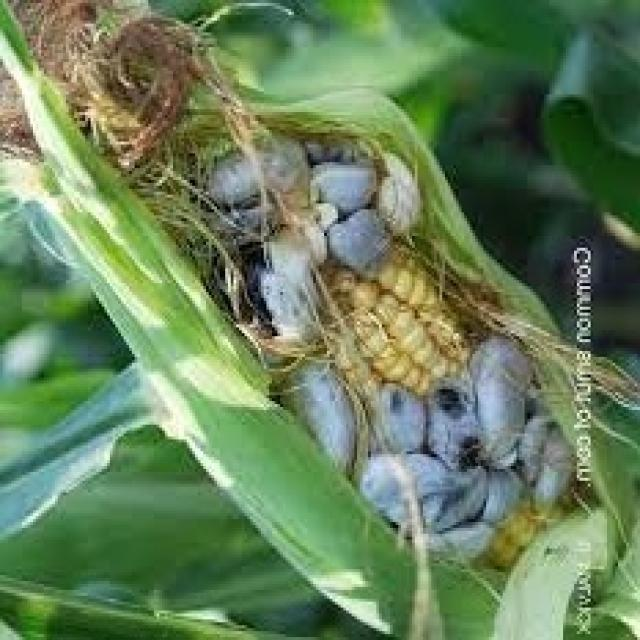Leaf_Scald: (96, 31, 608, 590)
